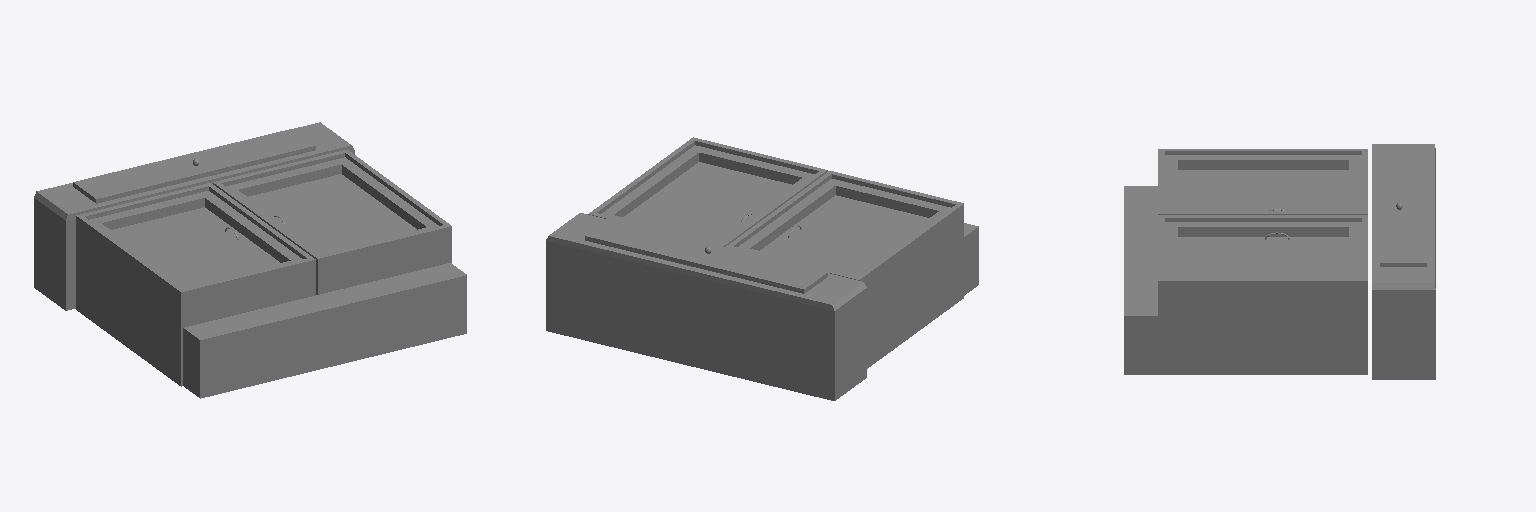
File: kitchen_drawer.obj
The picture shows the model from 3 angles: view 1: azimuth 30°, elevation 25°; view 2: azimuth 150°, elevation 25°; view 3: azimuth 270°, elevation 25°; orthographic projection.
Parts seen in each view (by area): view 1: drawer_left, Box001, drawer_right, Box002, open_drawer; view 2: Box002, drawer_left, drawer_right, open_drawer, Box001; view 3: drawer_right, drawer_left, Box002, Box001, open_drawer.
Part boxes in pixels (x1,y1,x2,y2): drawer_left: (76, 183, 315, 386); Box001: (183, 263, 466, 398); drawer_right: (213, 149, 451, 294); Box002: (34, 122, 354, 310); open_drawer: (73, 129, 315, 203); Box002: (546, 213, 866, 400); drawer_left: (726, 171, 963, 368); drawer_right: (588, 137, 827, 246); open_drawer: (585, 219, 827, 293); Box001: (964, 223, 978, 295); drawer_right: (1158, 215, 1367, 374); drawer_left: (1158, 149, 1367, 214); Box002: (1372, 144, 1435, 379); Box001: (1124, 186, 1157, 374); open_drawer: (1380, 156, 1426, 266).
Bounding box in the file's own units: 36.76 × 12.95 × 34.29.